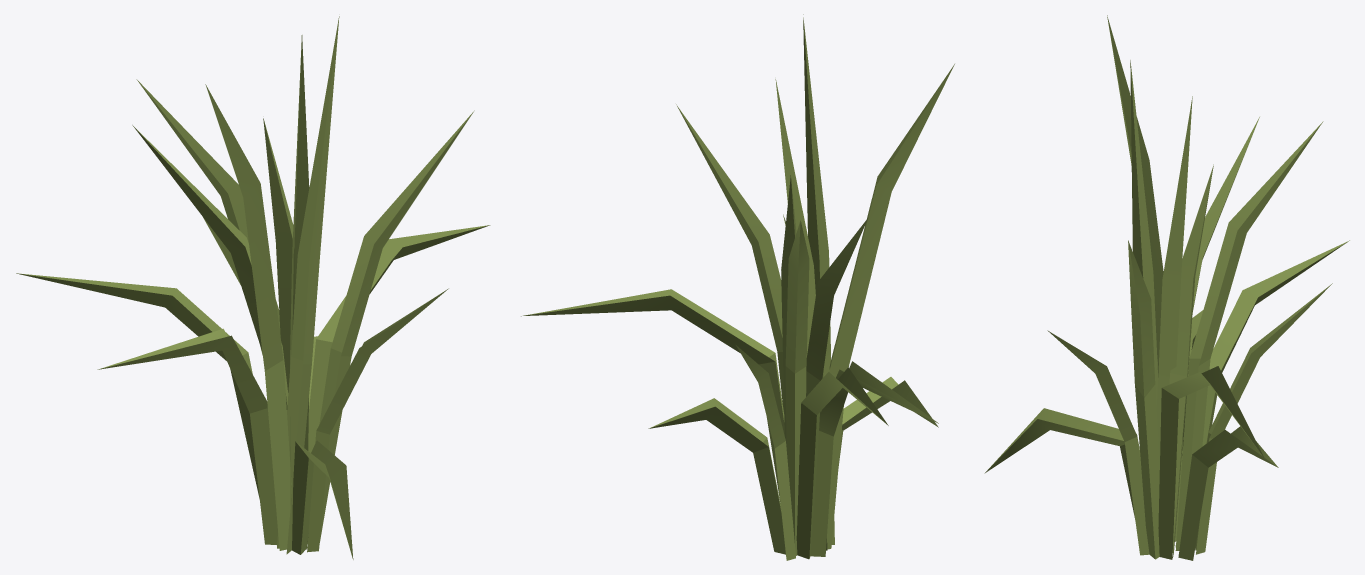
The model's file is farmland4.fbx.
The picture shows the model from 3 angles, left to right: view 1: azimuth 30°, elevation 25°; view 2: azimuth 150°, elevation 25°; view 3: azimuth 270°, elevation 25°; orthographic projection. The views are drawn at different scales.
Visible parts, largest first — view 1: polySurface12; view 2: polySurface12; view 3: polySurface12.
Boxes of the visible parts, <box> form: polySurface12: <box>16,16,490,559</box>; polySurface12: <box>521,14,954,560</box>; polySurface12: <box>984,15,1349,560</box>.
Bounding box in the file's own units: 52.79 × 62.85 × 41.46.
